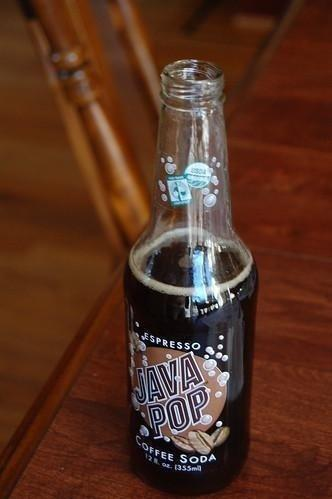bottle-glass: (121, 55, 262, 498)
